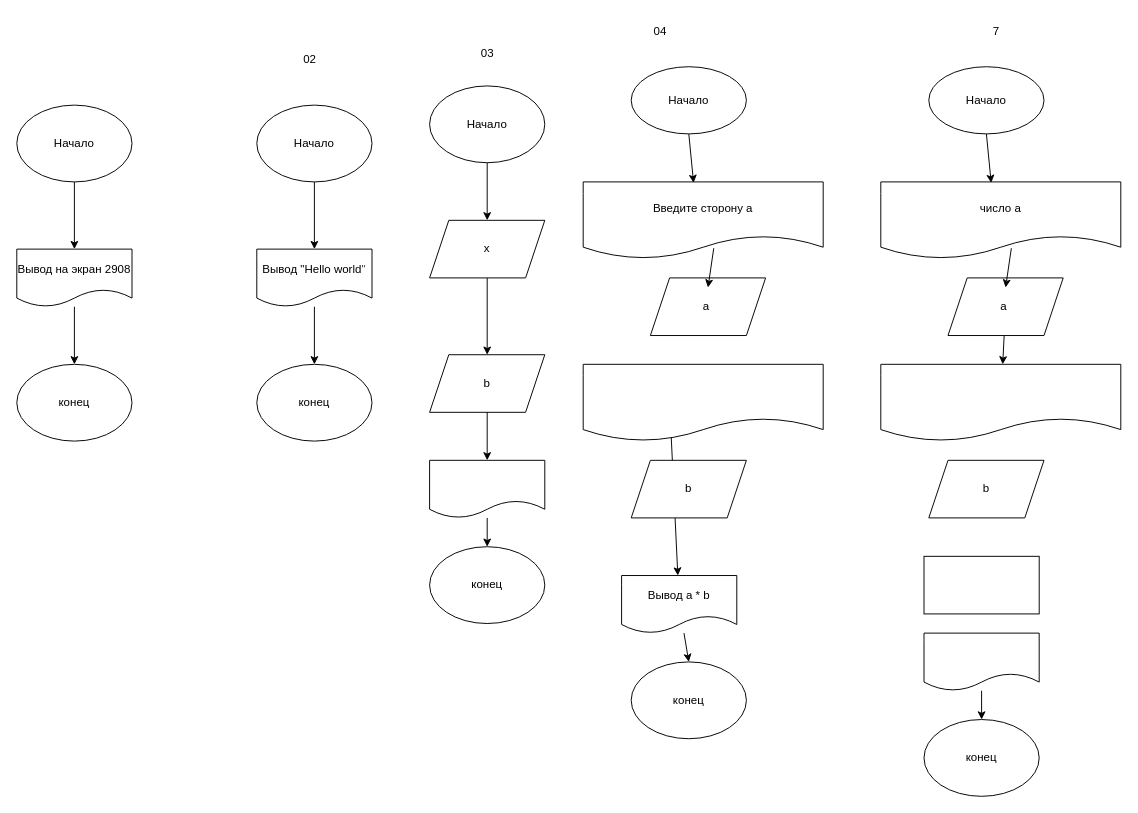
Image size: 1138x813. Some labels were removed from this diagram. The centre of each missing label's shape, as x and y in pixels:
"result" goes at (x=981, y=661).
"result = a div b" goes at (x=981, y=584).
"Введите сторону b" goes at (x=702, y=402).
"Вывод a+b" goes at (x=487, y=488).
"число b" goes at (x=1000, y=402).
